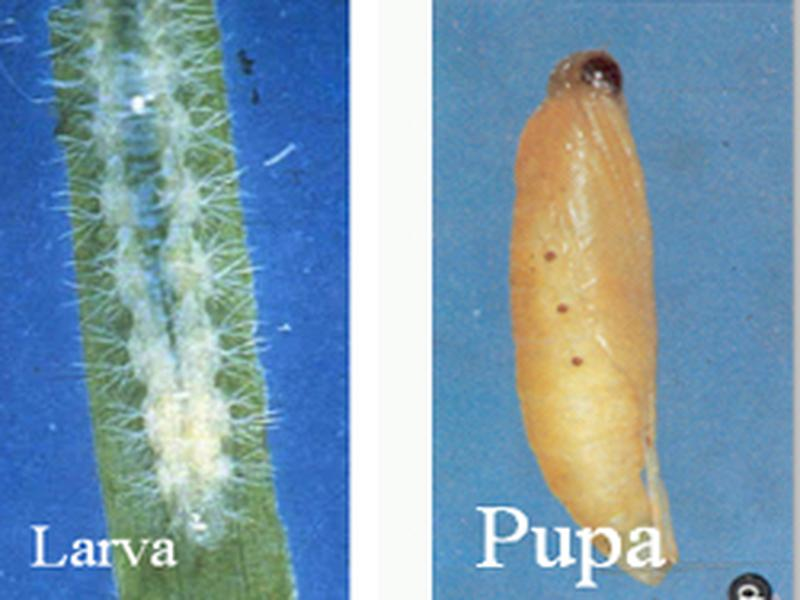Rice_case_worm: (489, 30, 664, 506), (71, 35, 241, 522)
